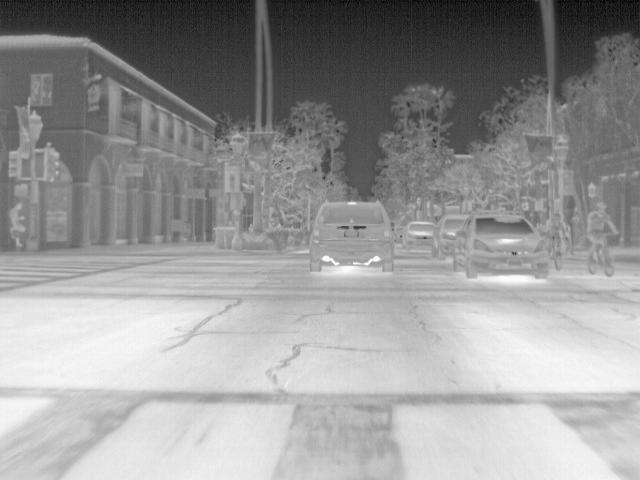car: (307, 198, 397, 274), (454, 214, 548, 278), (434, 214, 474, 260), (402, 220, 437, 252)
person: (586, 200, 622, 264), (545, 204, 576, 260), (8, 198, 27, 249)
